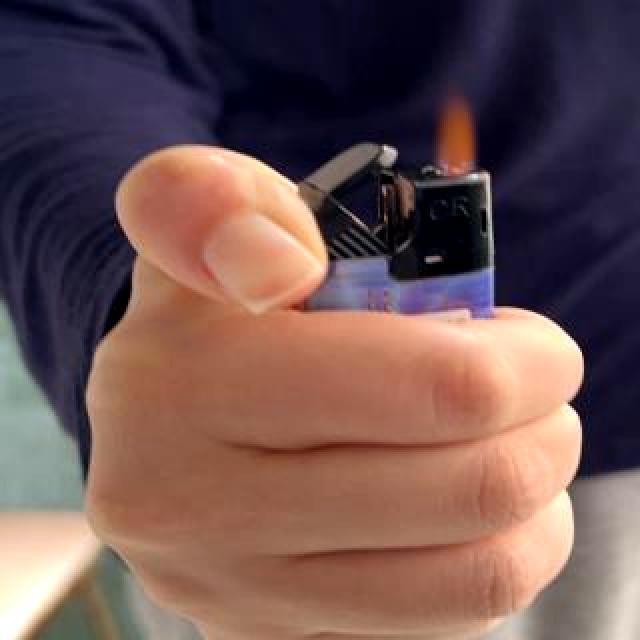fire: (426, 96, 472, 178)
